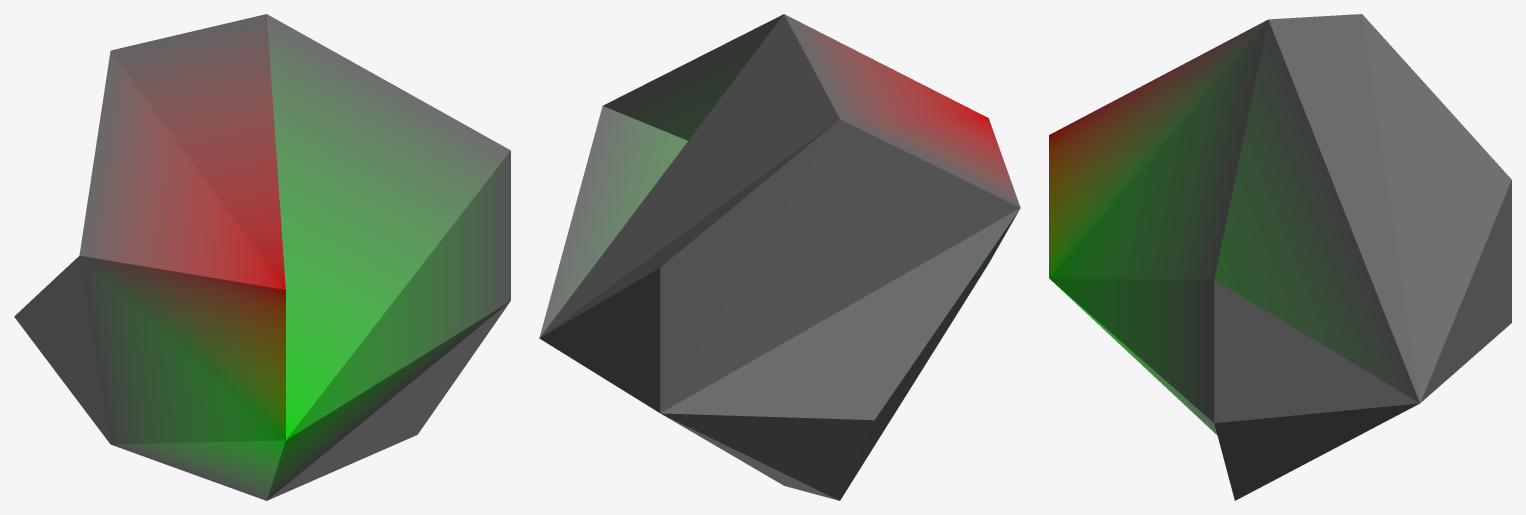
File: problem_find_gate.obj
3 views of the same model, side by side, from view 1: azimuth 30°, elevation 25°; view 2: azimuth 150°, elevation 25°; view 3: azimuth 270°, elevation 25° (orthographic). The views are drawn at different scales.
Size of the model in its own units: 1.85 by 2 by 1.81.
